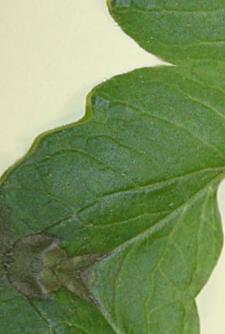Tomato leaf late blight: (0, 25, 225, 311)
